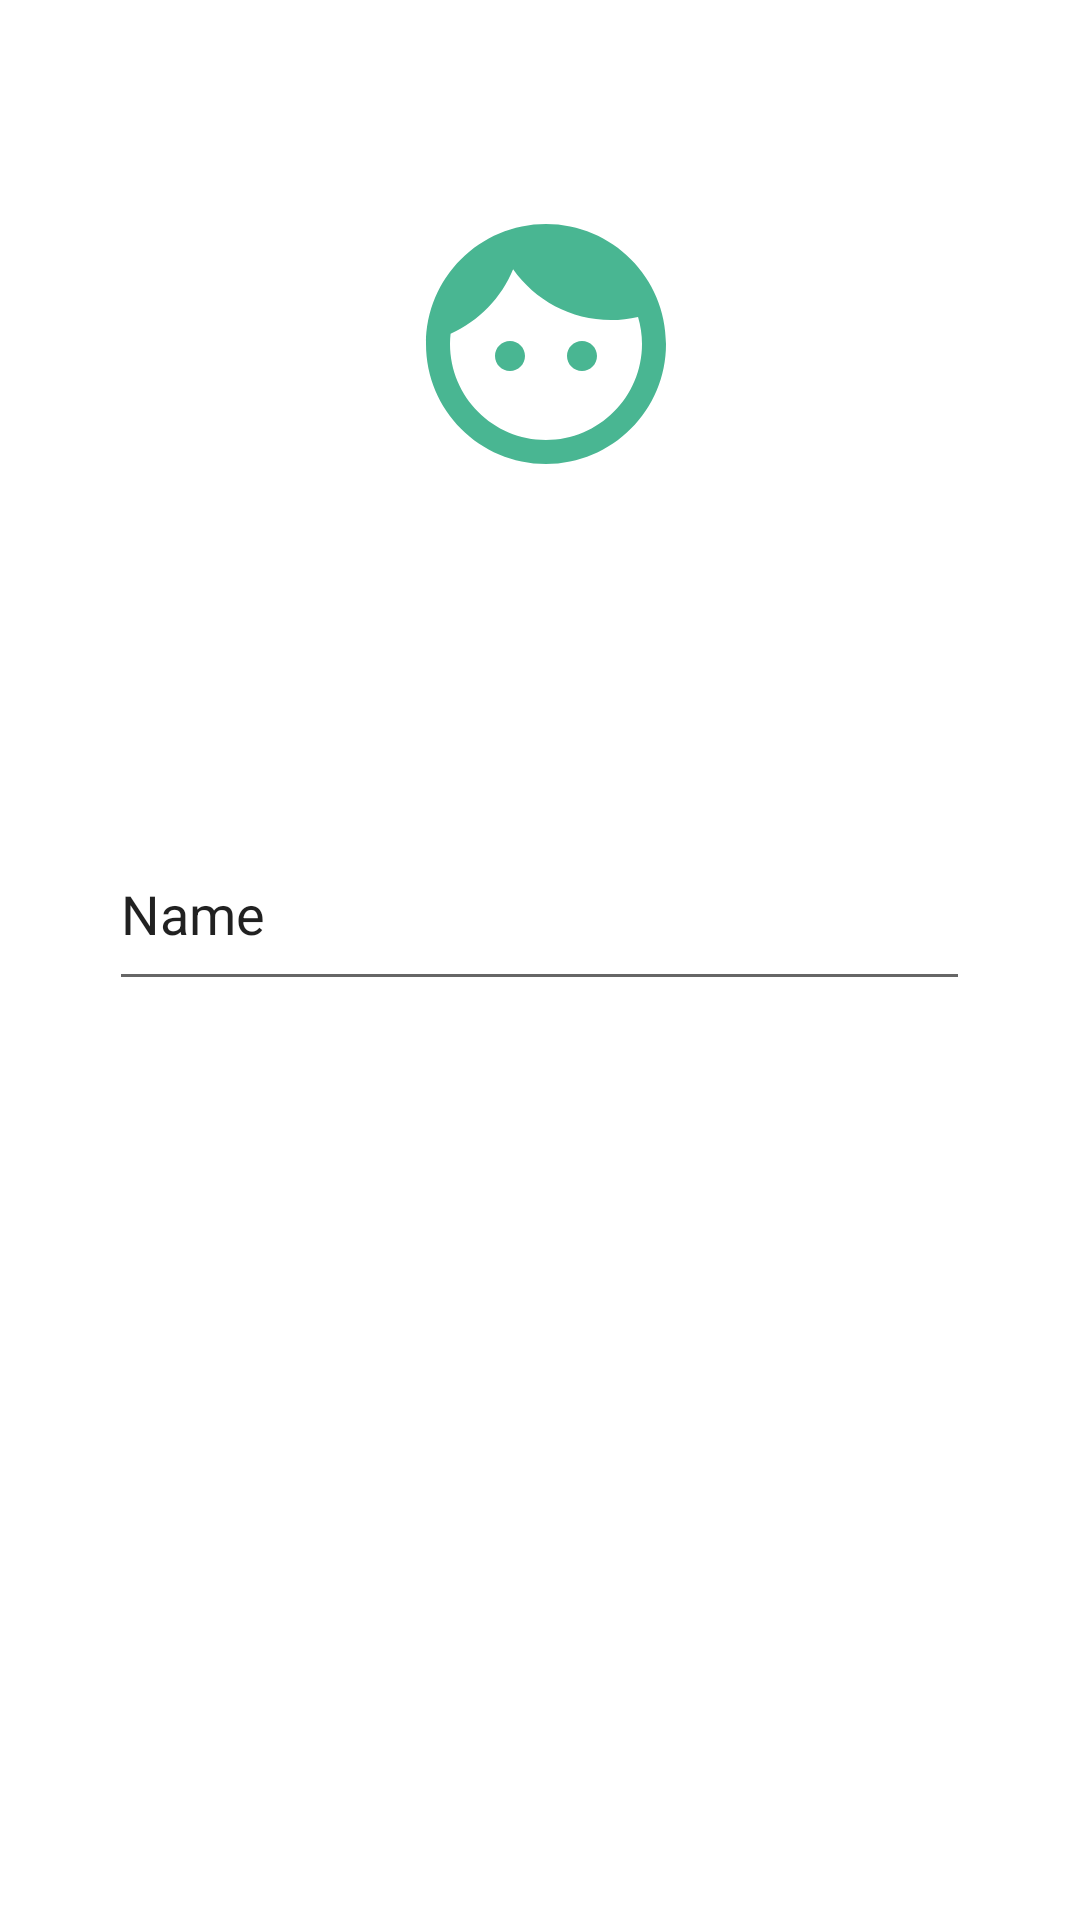

Screen size 1080px x 1920px. Icon name, then its box in pixels as [x1,y1,x2,y2]:
face: [426,224,666,464]
